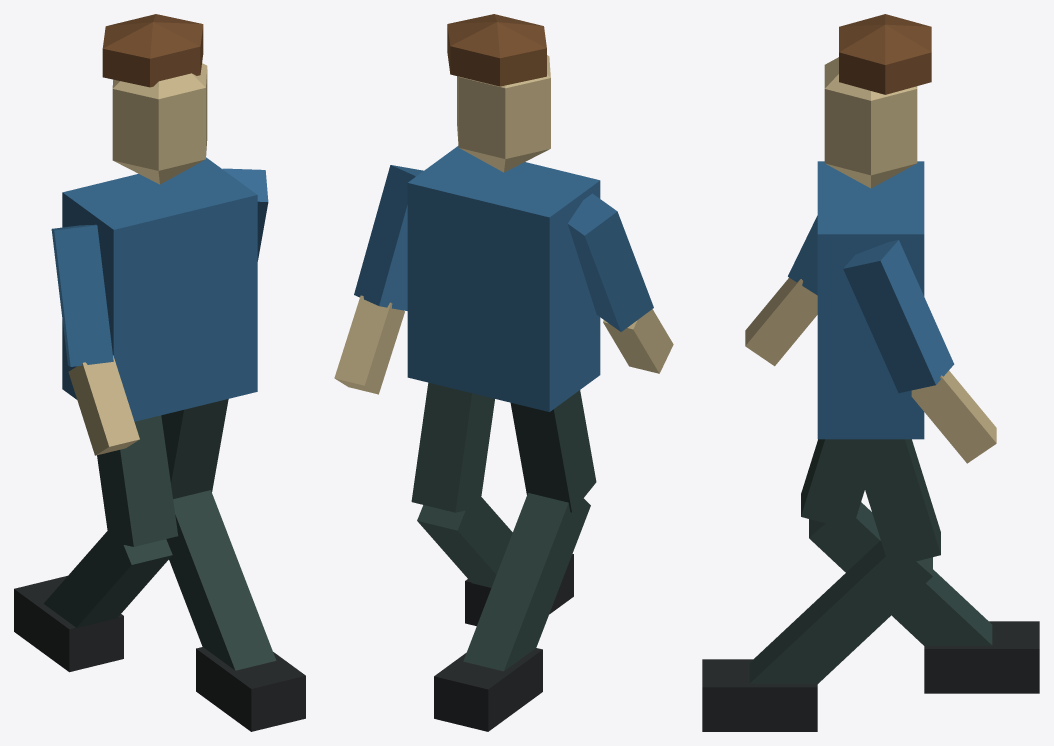
File: TownWalker2.obj
3 views of the same model, side by side, from view 1: azimuth 30°, elevation 25°; view 2: azimuth 150°, elevation 25°; view 3: azimuth 270°, elevation 25° (orthographic). The views are drawn at different scales.
Parts seen in each view (by area): view 1: TownWalker2; view 2: TownWalker2; view 3: TownWalker2.
Boxes of the visible parts, left/top/right/bottom form: TownWalker2: left=14, top=14, right=305, bottom=731; TownWalker2: left=334, top=14, right=673, bottom=731; TownWalker2: left=702, top=14, right=1039, bottom=731.
Bounding box in the file's own units: 0.7047 × 1.81 × 0.82.
Materials: 1 (1 with a texture image).
